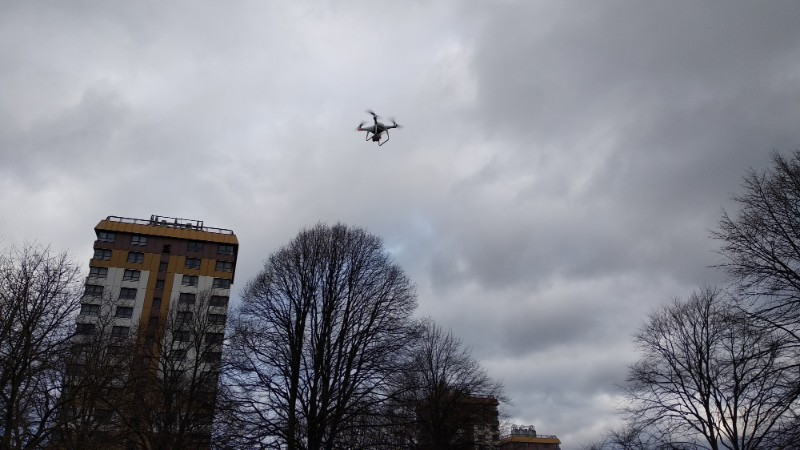drone: (354, 109, 406, 146)
